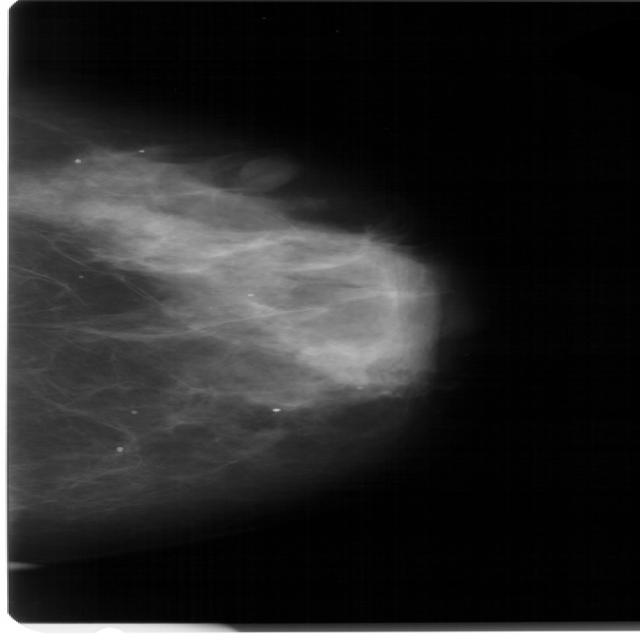tumour: (237, 154, 293, 188)
